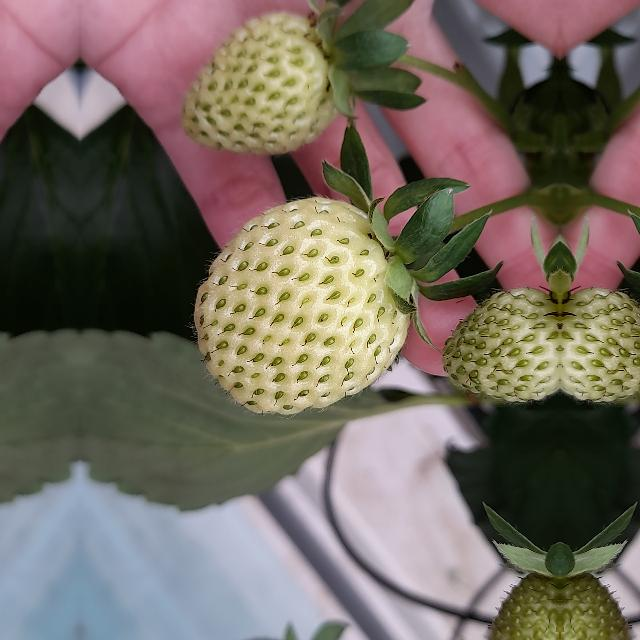Health_25: (194, 196, 410, 414)
